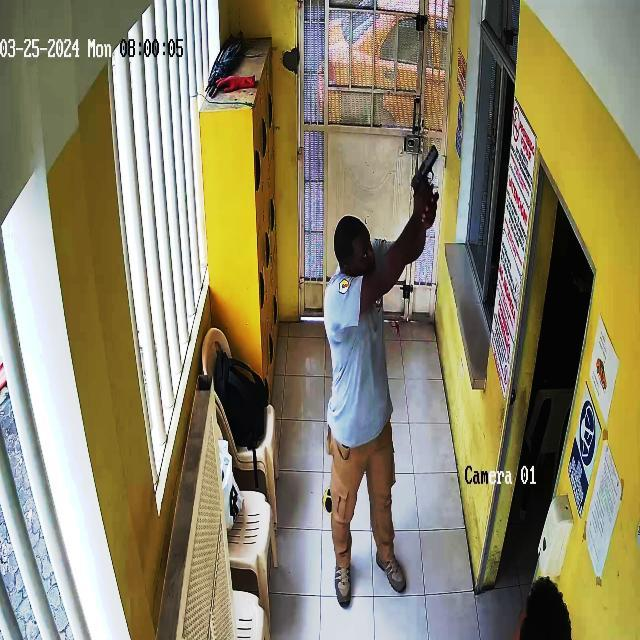Gun: (403, 137, 450, 203)
